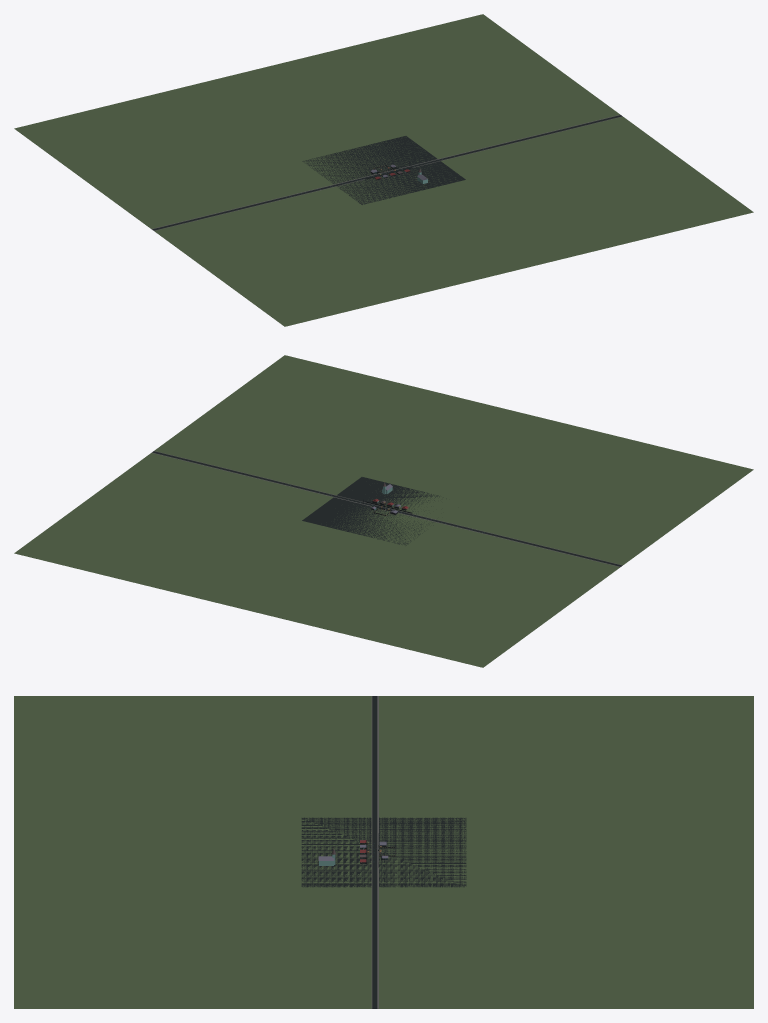
File: primarie_curte.glb
3 views of the same model, one above another, from view 1: azimuth 30°, elevation 25°; view 2: azimuth 150°, elevation 25°; view 3: azimuth 270°, elevation 25° (orthographic). The views are drawn at different scales.
Visible parts, largest first — view 1: Curte, Coliziune; view 2: Curte, Coliziune; view 3: Curte, Coliziune.
Boxes of the visible parts, box(x1,y1,x2,y2) form: Curte: box(14, 14, 753, 326); Coliziune: box(302, 136, 465, 204); Curte: box(14, 355, 753, 667); Coliziune: box(302, 477, 446, 545); Curte: box(14, 696, 753, 1008); Coliziune: box(301, 817, 466, 887).
Bounding box in the file's own units: 900 × 22.5 × 900.
